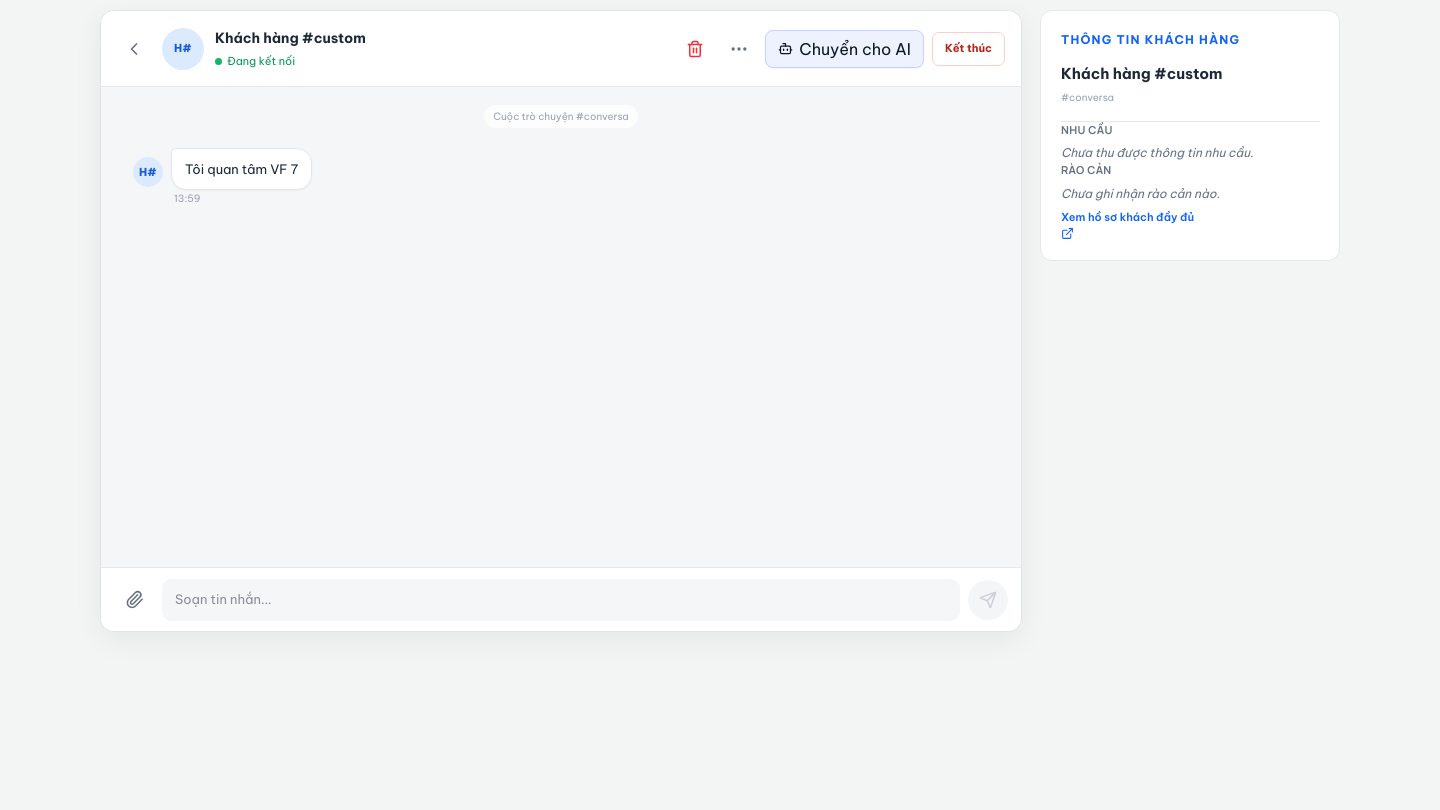
Test: AdvisorLiveChat › sends an advisor message and closes the live session
Type "Tôi sẽ kiểm tra VF 7 Plus." into the field named "Tin nhắn gửi khách hàng".
click(561, 600); type("Tôi sẽ kiểm tra VF 7 Plus.")  # box [162,578,960,620]
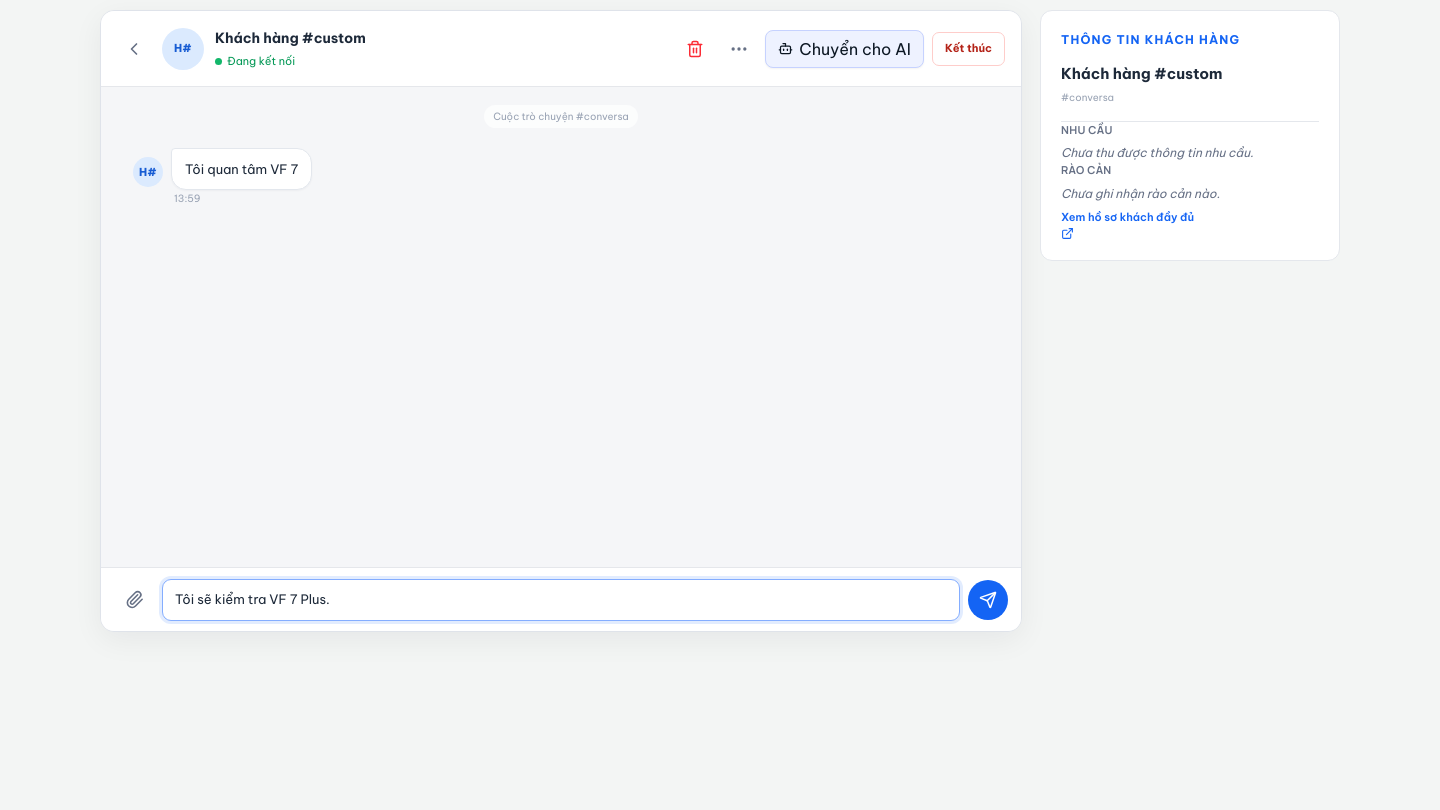
Click the button named "Gửi tin nhắn".
click(988, 600)  # box [968,580,1008,620]
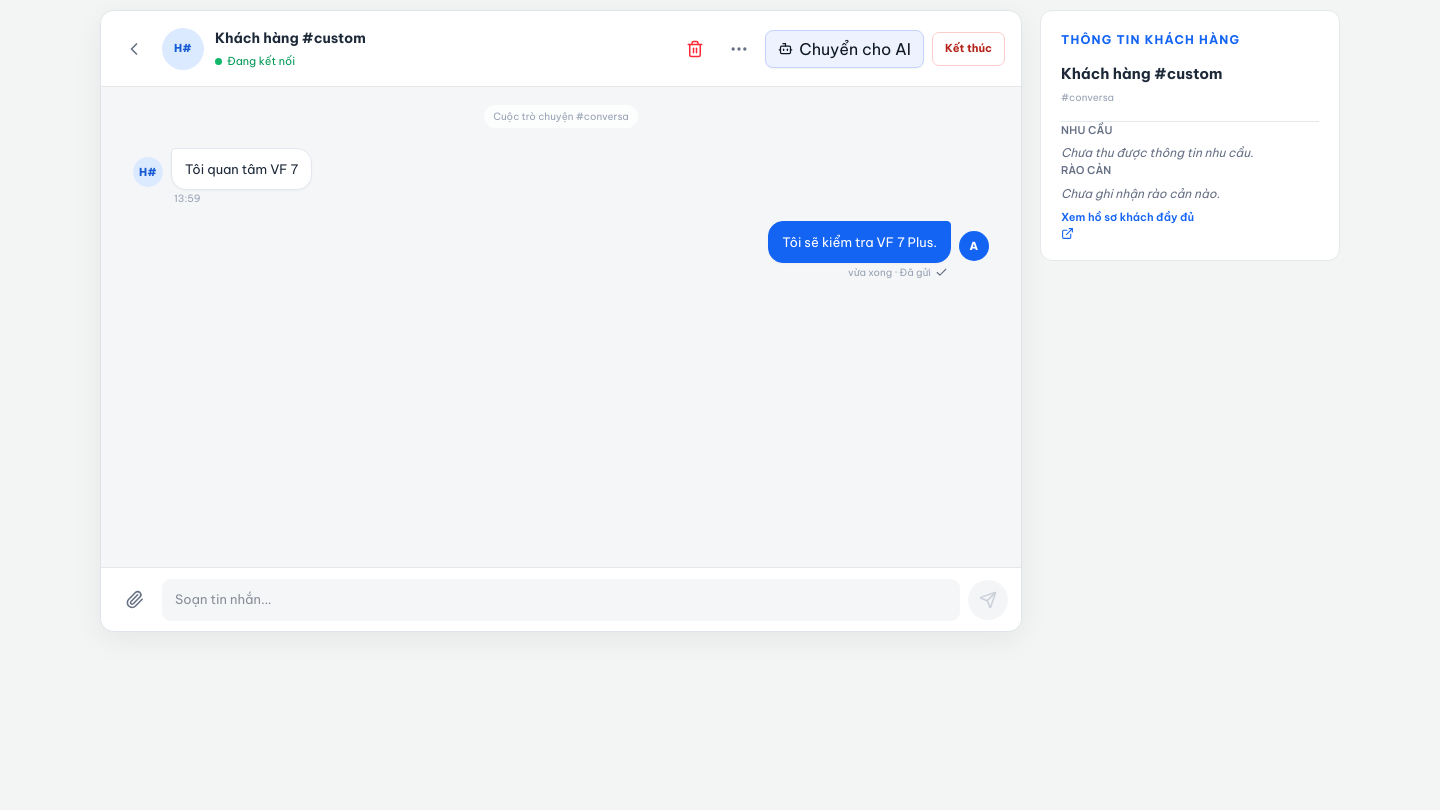
Expected: the text "Tôi sẽ kiểm tra VF 7 Plus." is shown, [768,221,951,263]
Click the button "Kết thúc".
click(968, 48)  # box [932,32,1005,66]
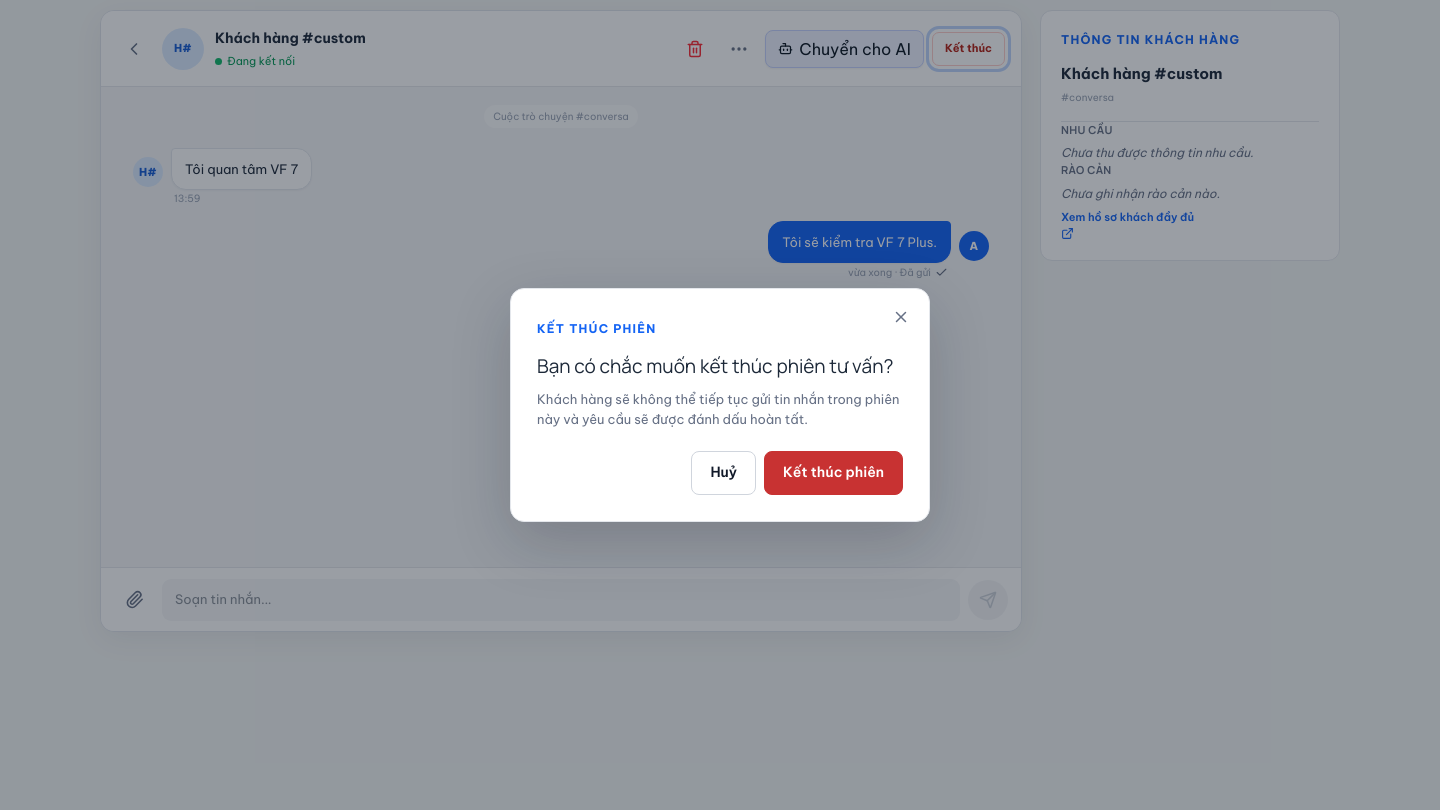
Expected: the dialog shows "Bạn có chắc muốn kết thúc phiên tư vấn?", [537,353,893,379]
Click the button "Kết thúc phiên".
click(834, 473)  # box [764,451,903,495]
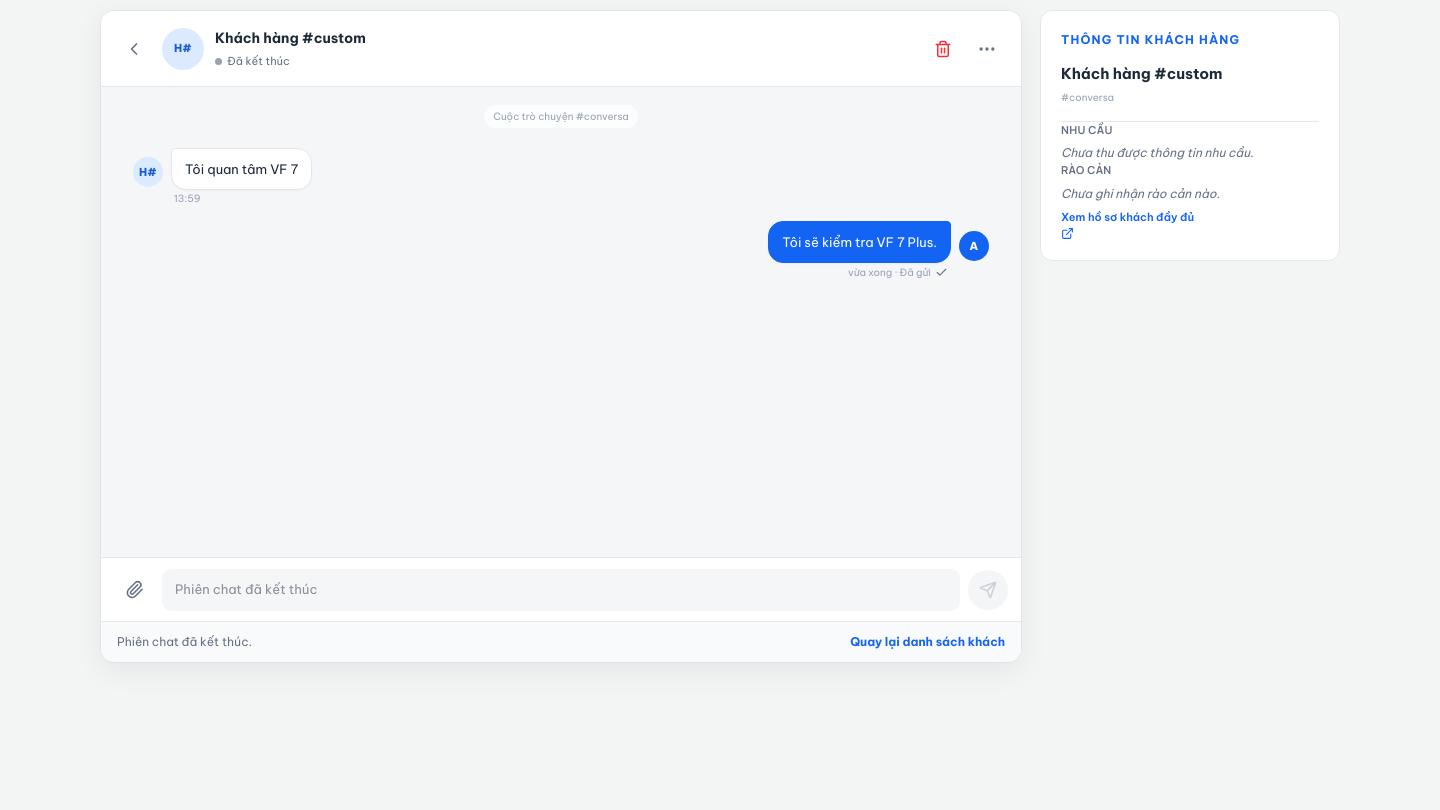
Expected: the text "Đã kết thúc" is shown, [215,54,290,68]
Expected: the field named "Tin nhắn gửi khách hàng" is disabled, [162,568,960,610]
